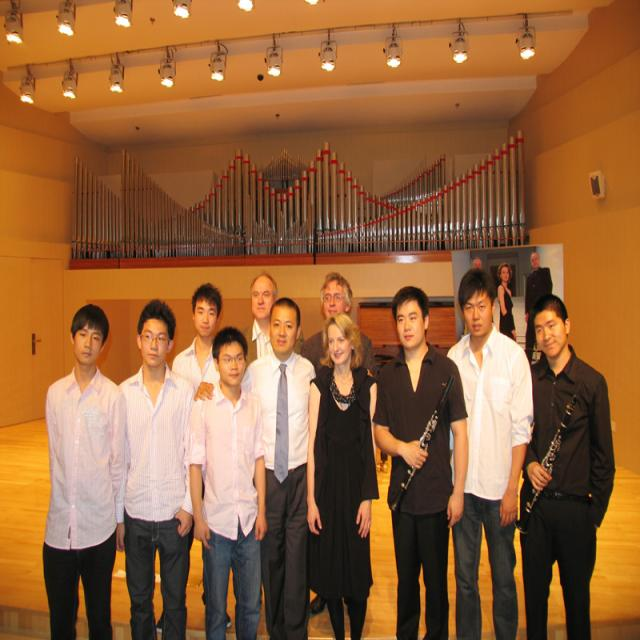clarinet: (386, 372, 456, 516), (516, 393, 579, 534)
